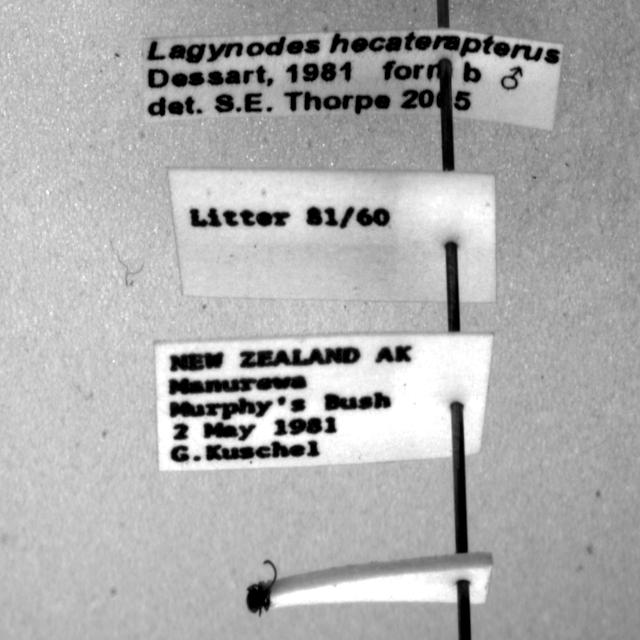typed_label: (155, 334, 492, 471), (169, 169, 496, 302), (144, 28, 562, 129)
